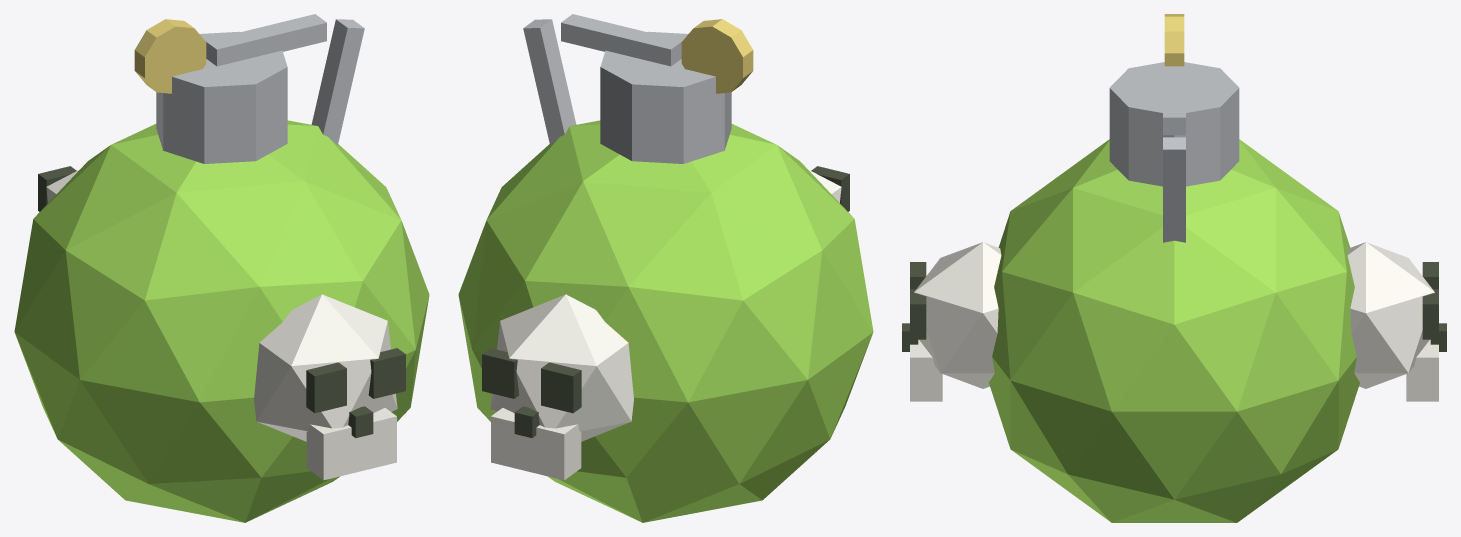
Rendered from stink_bomb.glb.
The picture shows the model from 3 angles, left to right: view 1: azimuth 30°, elevation 25°; view 2: azimuth 150°, elevation 25°; view 3: azimuth 270°, elevation 25°; orthographic projection. The views are drawn at different scales.
Parts seen in each view (by area): view 1: StinkBomb; view 2: StinkBomb; view 3: StinkBomb.
Boxes of the visible parts, bbox=[...] form: StinkBomb: bbox=[14, 14, 429, 522]; StinkBomb: bbox=[458, 14, 873, 522]; StinkBomb: bbox=[902, 14, 1446, 522].
Size of the model in its own units: 0.2378 by 0.322 by 0.336.
